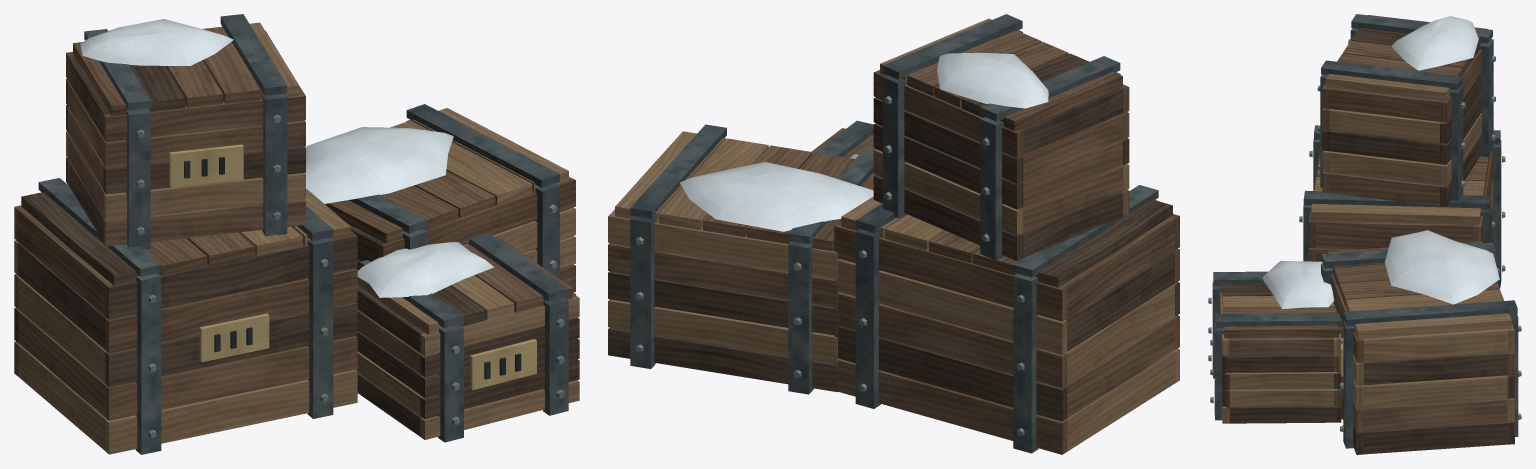
The model's file is 10_Stacked_Supplies.obj.
The picture shows the model from 3 angles, left to right: view 1: azimuth 30°, elevation 25°; view 2: azimuth 150°, elevation 25°; view 3: azimuth 270°, elevation 25°; orthographic projection. The views are drawn at different scales.
Parts seen in each view (by area): view 1: 10_Stacked_Supplies; view 2: 10_Stacked_Supplies; view 3: 10_Stacked_Supplies.
Part boxes in pixels (x1,y1,x2,y2): 10_Stacked_Supplies: (14, 14, 579, 454); 10_Stacked_Supplies: (608, 14, 1179, 454); 10_Stacked_Supplies: (1208, 14, 1521, 454).
Size of the model in its own units: 1.75 by 1.2 by 1.21.
Materials: 8 (8 with a texture image).
